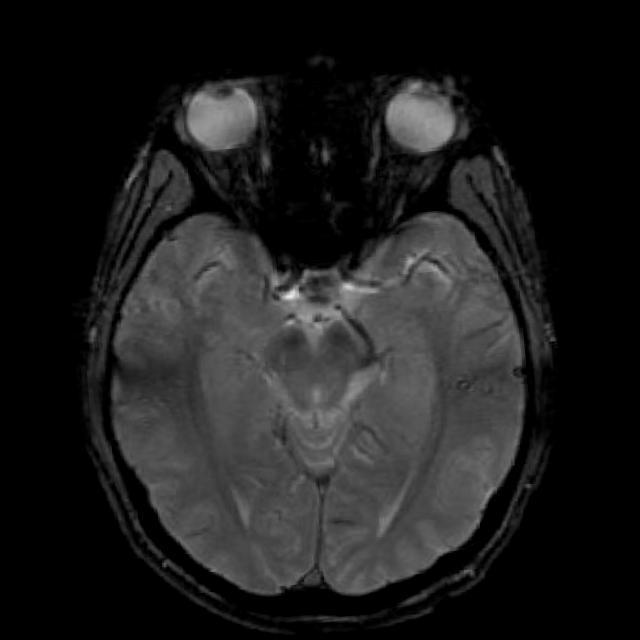EMCI: (114, 346, 212, 438), (401, 238, 468, 306)
